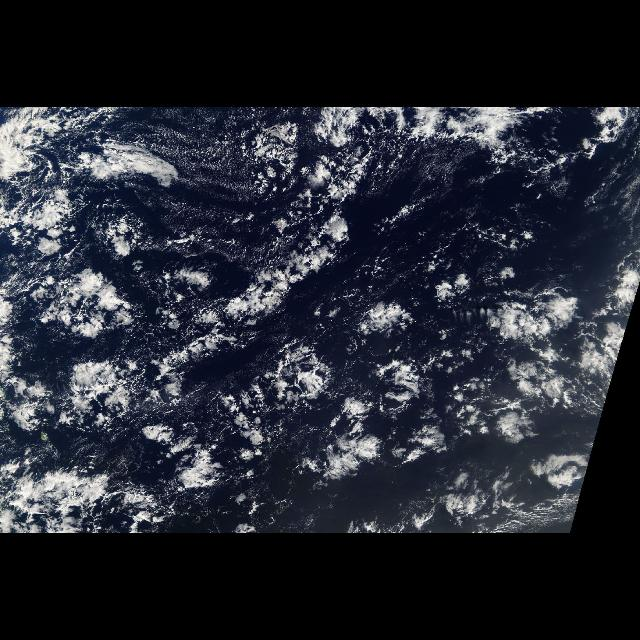Flower: (338, 276, 640, 470)
Sugar: (170, 112, 250, 266)
